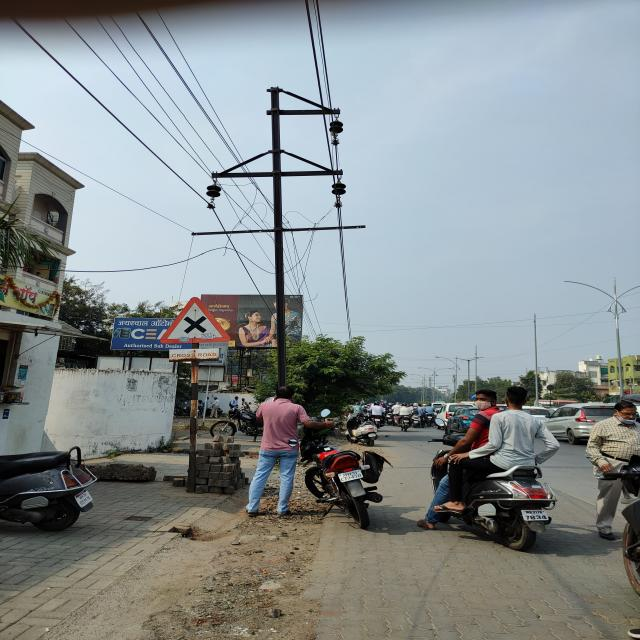CROSS_ROAD: (156, 294, 233, 348)
